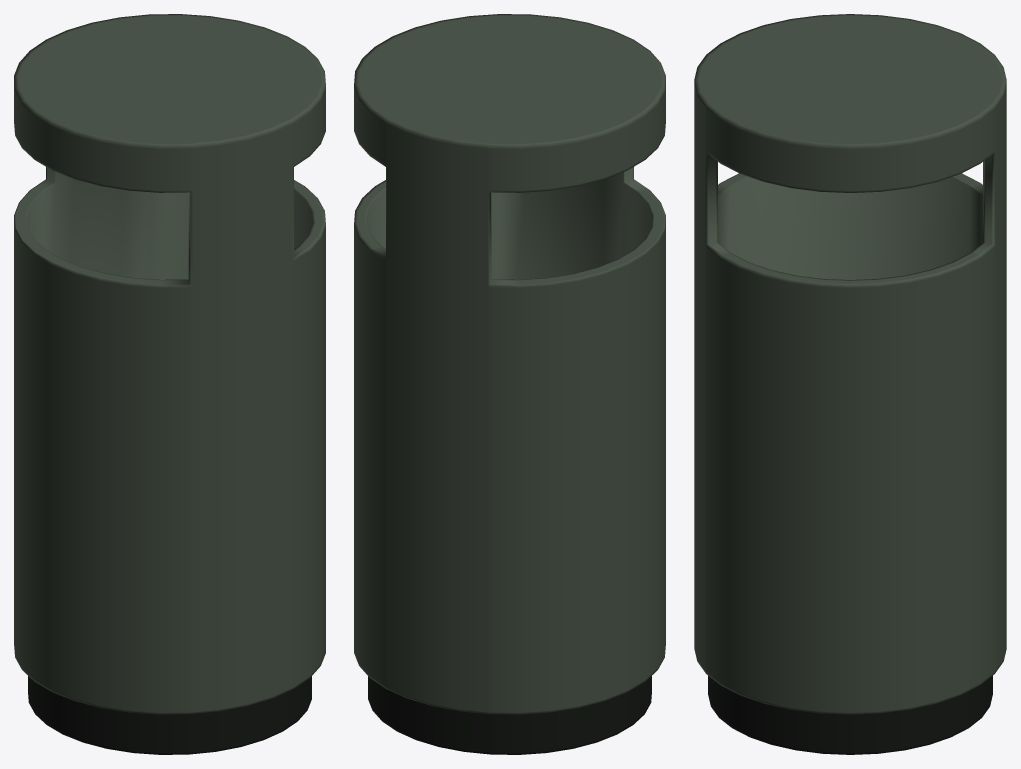
The model's file is PoubelleVille.fbx.
3 renders of one model, left to right at view 1: azimuth 30°, elevation 25°; view 2: azimuth 150°, elevation 25°; view 3: azimuth 270°, elevation 25°, orthographic.
Visible parts, largest first — view 1: Cylinder.001; view 2: Cylinder.001; view 3: Cylinder.001.
Boxes of the visible parts, x1,y1,x2,y2 form: Cylinder.001: [14, 14, 325, 754]; Cylinder.001: [354, 14, 665, 754]; Cylinder.001: [694, 14, 1006, 754].
Size of the model in its own units: 71.46 by 155 by 71.46.
1 material, 1 textured.
